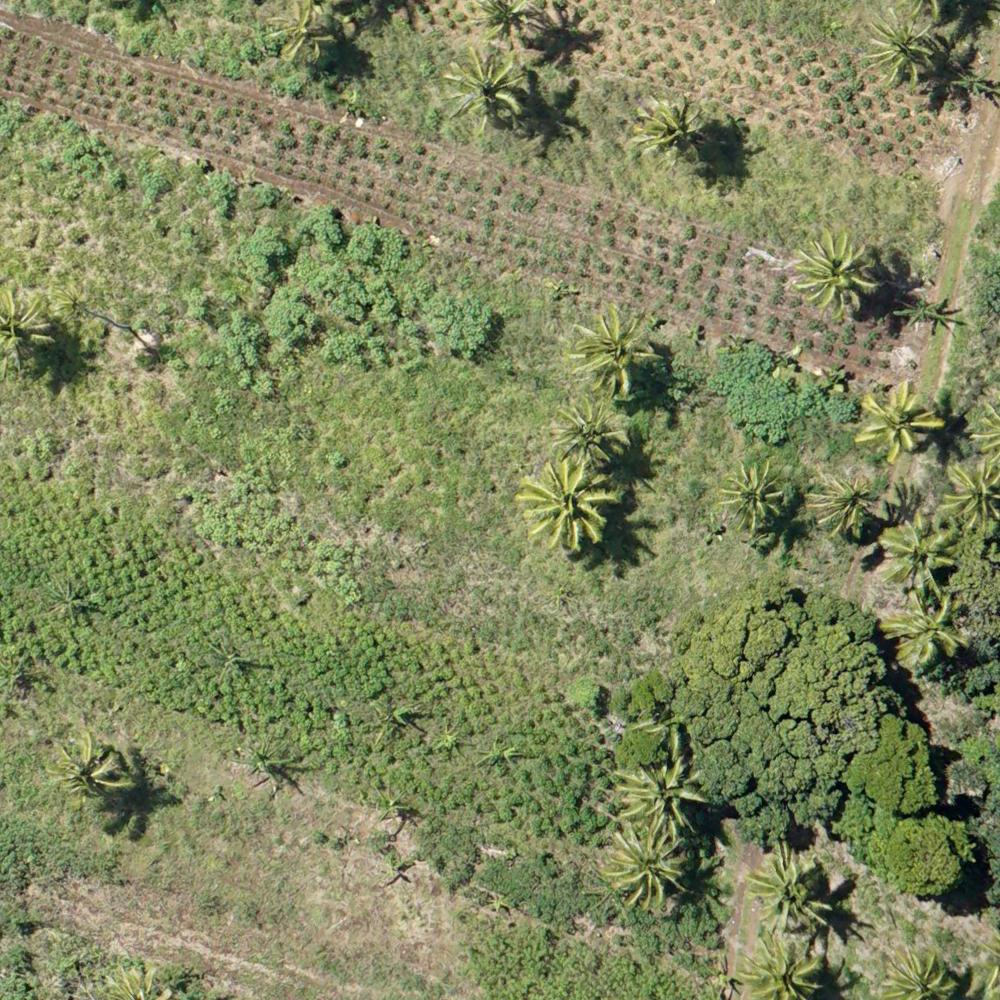Palm: (521, 458, 615, 550), (576, 307, 662, 393), (751, 840, 830, 933), (795, 232, 881, 317), (859, 386, 949, 465), (440, 45, 524, 129), (607, 830, 691, 908), (878, 513, 959, 592), (884, 592, 968, 663), (616, 764, 705, 831), (738, 935, 830, 999), (861, 11, 936, 88), (58, 734, 131, 809), (634, 91, 706, 162), (262, 1, 340, 66), (721, 459, 788, 529), (558, 396, 628, 461), (803, 473, 875, 533)
